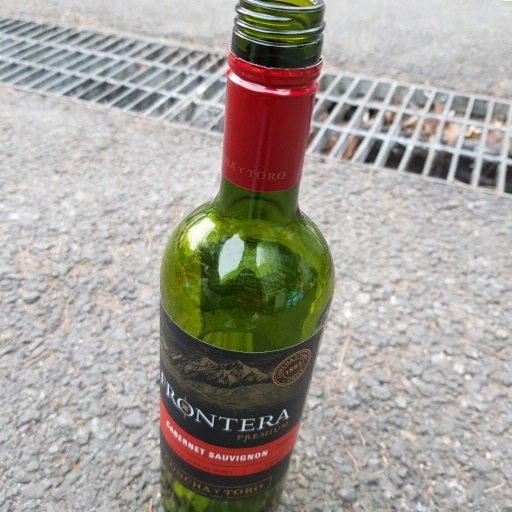Glass_2: (142, 2, 338, 512)
